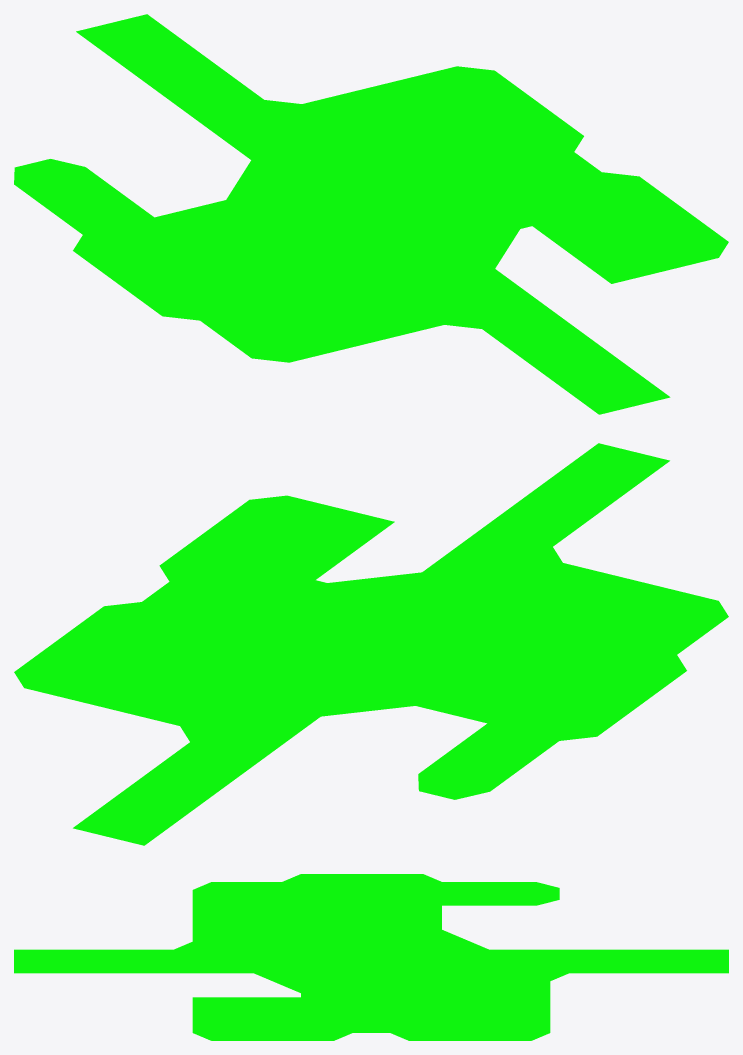
Rendered from s06a_ic3-floor.glb.
3 renders of one model, top to bottom at view 1: azimuth 30°, elevation 25°; view 2: azimuth 150°, elevation 25°; view 3: azimuth 270°, elevation 25°, orthographic. The views are drawn at different scales.
Parts seen in each view (by area): view 1: collision_floor-colonly; view 2: collision_floor-colonly; view 3: collision_floor-colonly.
Boxes of the visible parts, <box> form: collision_floor-colonly: <box>14,14,728,414</box>; collision_floor-colonly: <box>14,443,728,845</box>; collision_floor-colonly: <box>14,874,728,1040</box>.
Size of the model in its own units: 42 by 0 by 76.
